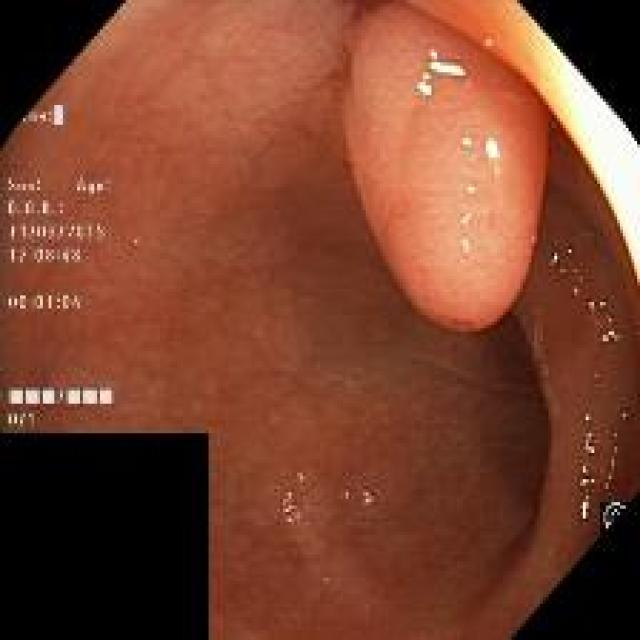Polyps: (342, 4, 549, 331)
